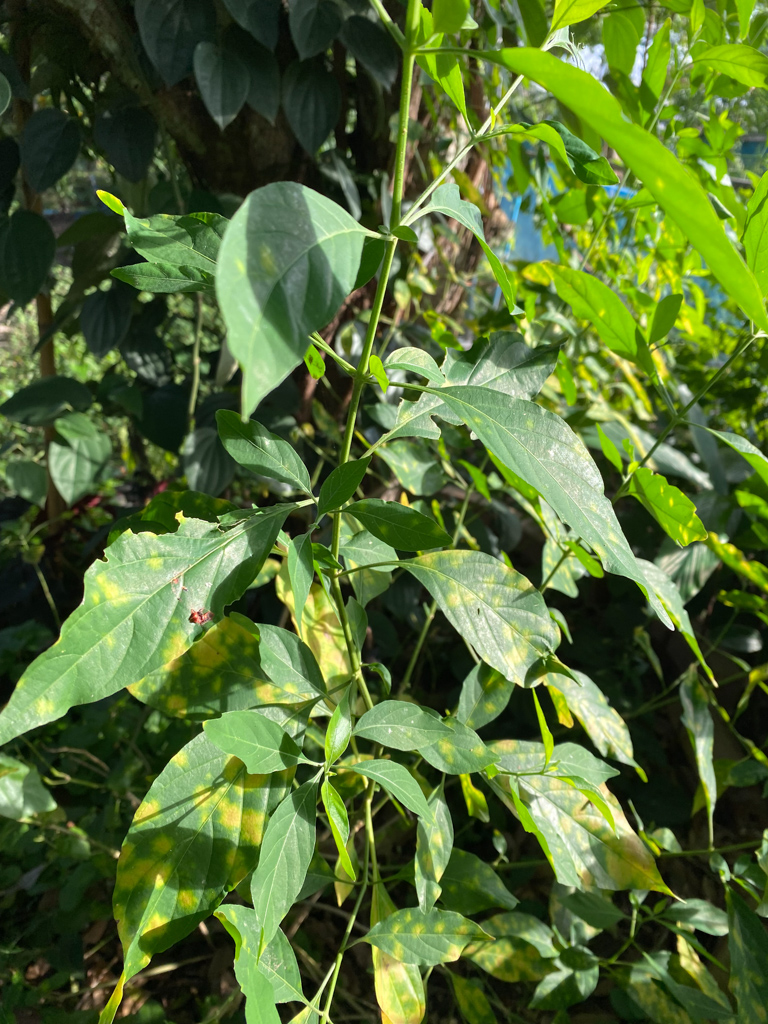Pepper yellow leaf: (98, 771, 265, 995), (53, 510, 242, 703), (523, 771, 688, 909), (425, 545, 541, 666), (169, 613, 289, 714), (277, 583, 357, 694), (374, 909, 483, 965), (460, 919, 550, 984), (625, 965, 716, 1020), (438, 720, 486, 776), (419, 816, 449, 892), (475, 670, 505, 718)
